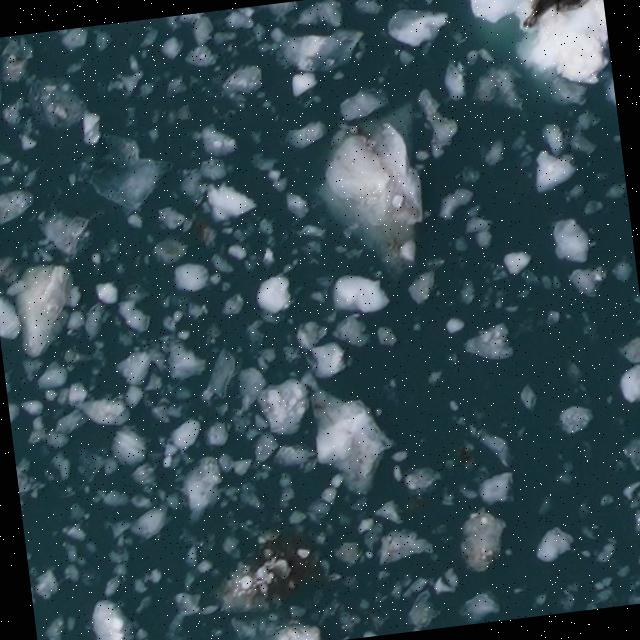seal: (524, 0, 558, 28), (555, 0, 587, 11)
